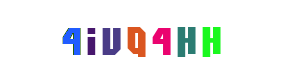4: (33, 0, 113, 80), (108, 0, 188, 80)
H: (139, 0, 219, 80), (171, 0, 251, 80)
I: (65, 0, 145, 80)
Q: (106, 0, 186, 80)
V: (102, 0, 182, 80)
